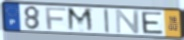8: (24, 5, 42, 31)
E: (140, 11, 165, 35)
F: (44, 6, 68, 31)
I: (103, 8, 111, 34)
M: (66, 7, 96, 34)
N: (115, 9, 141, 35)
